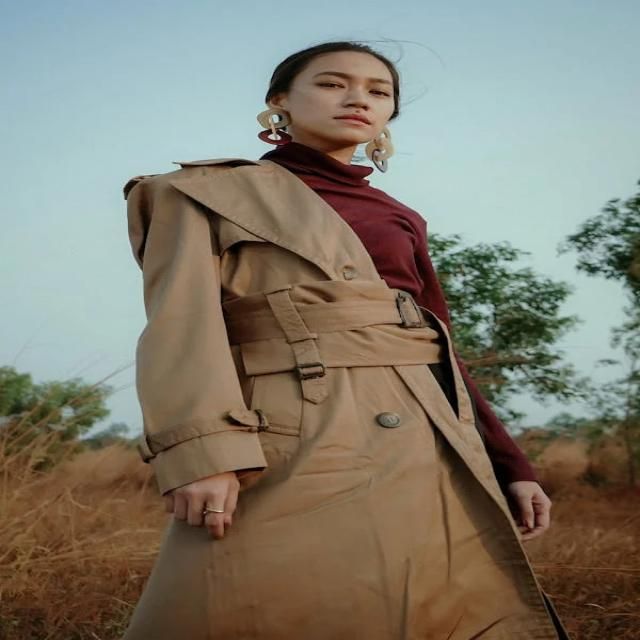Real human 2: (107, 34, 582, 640)
